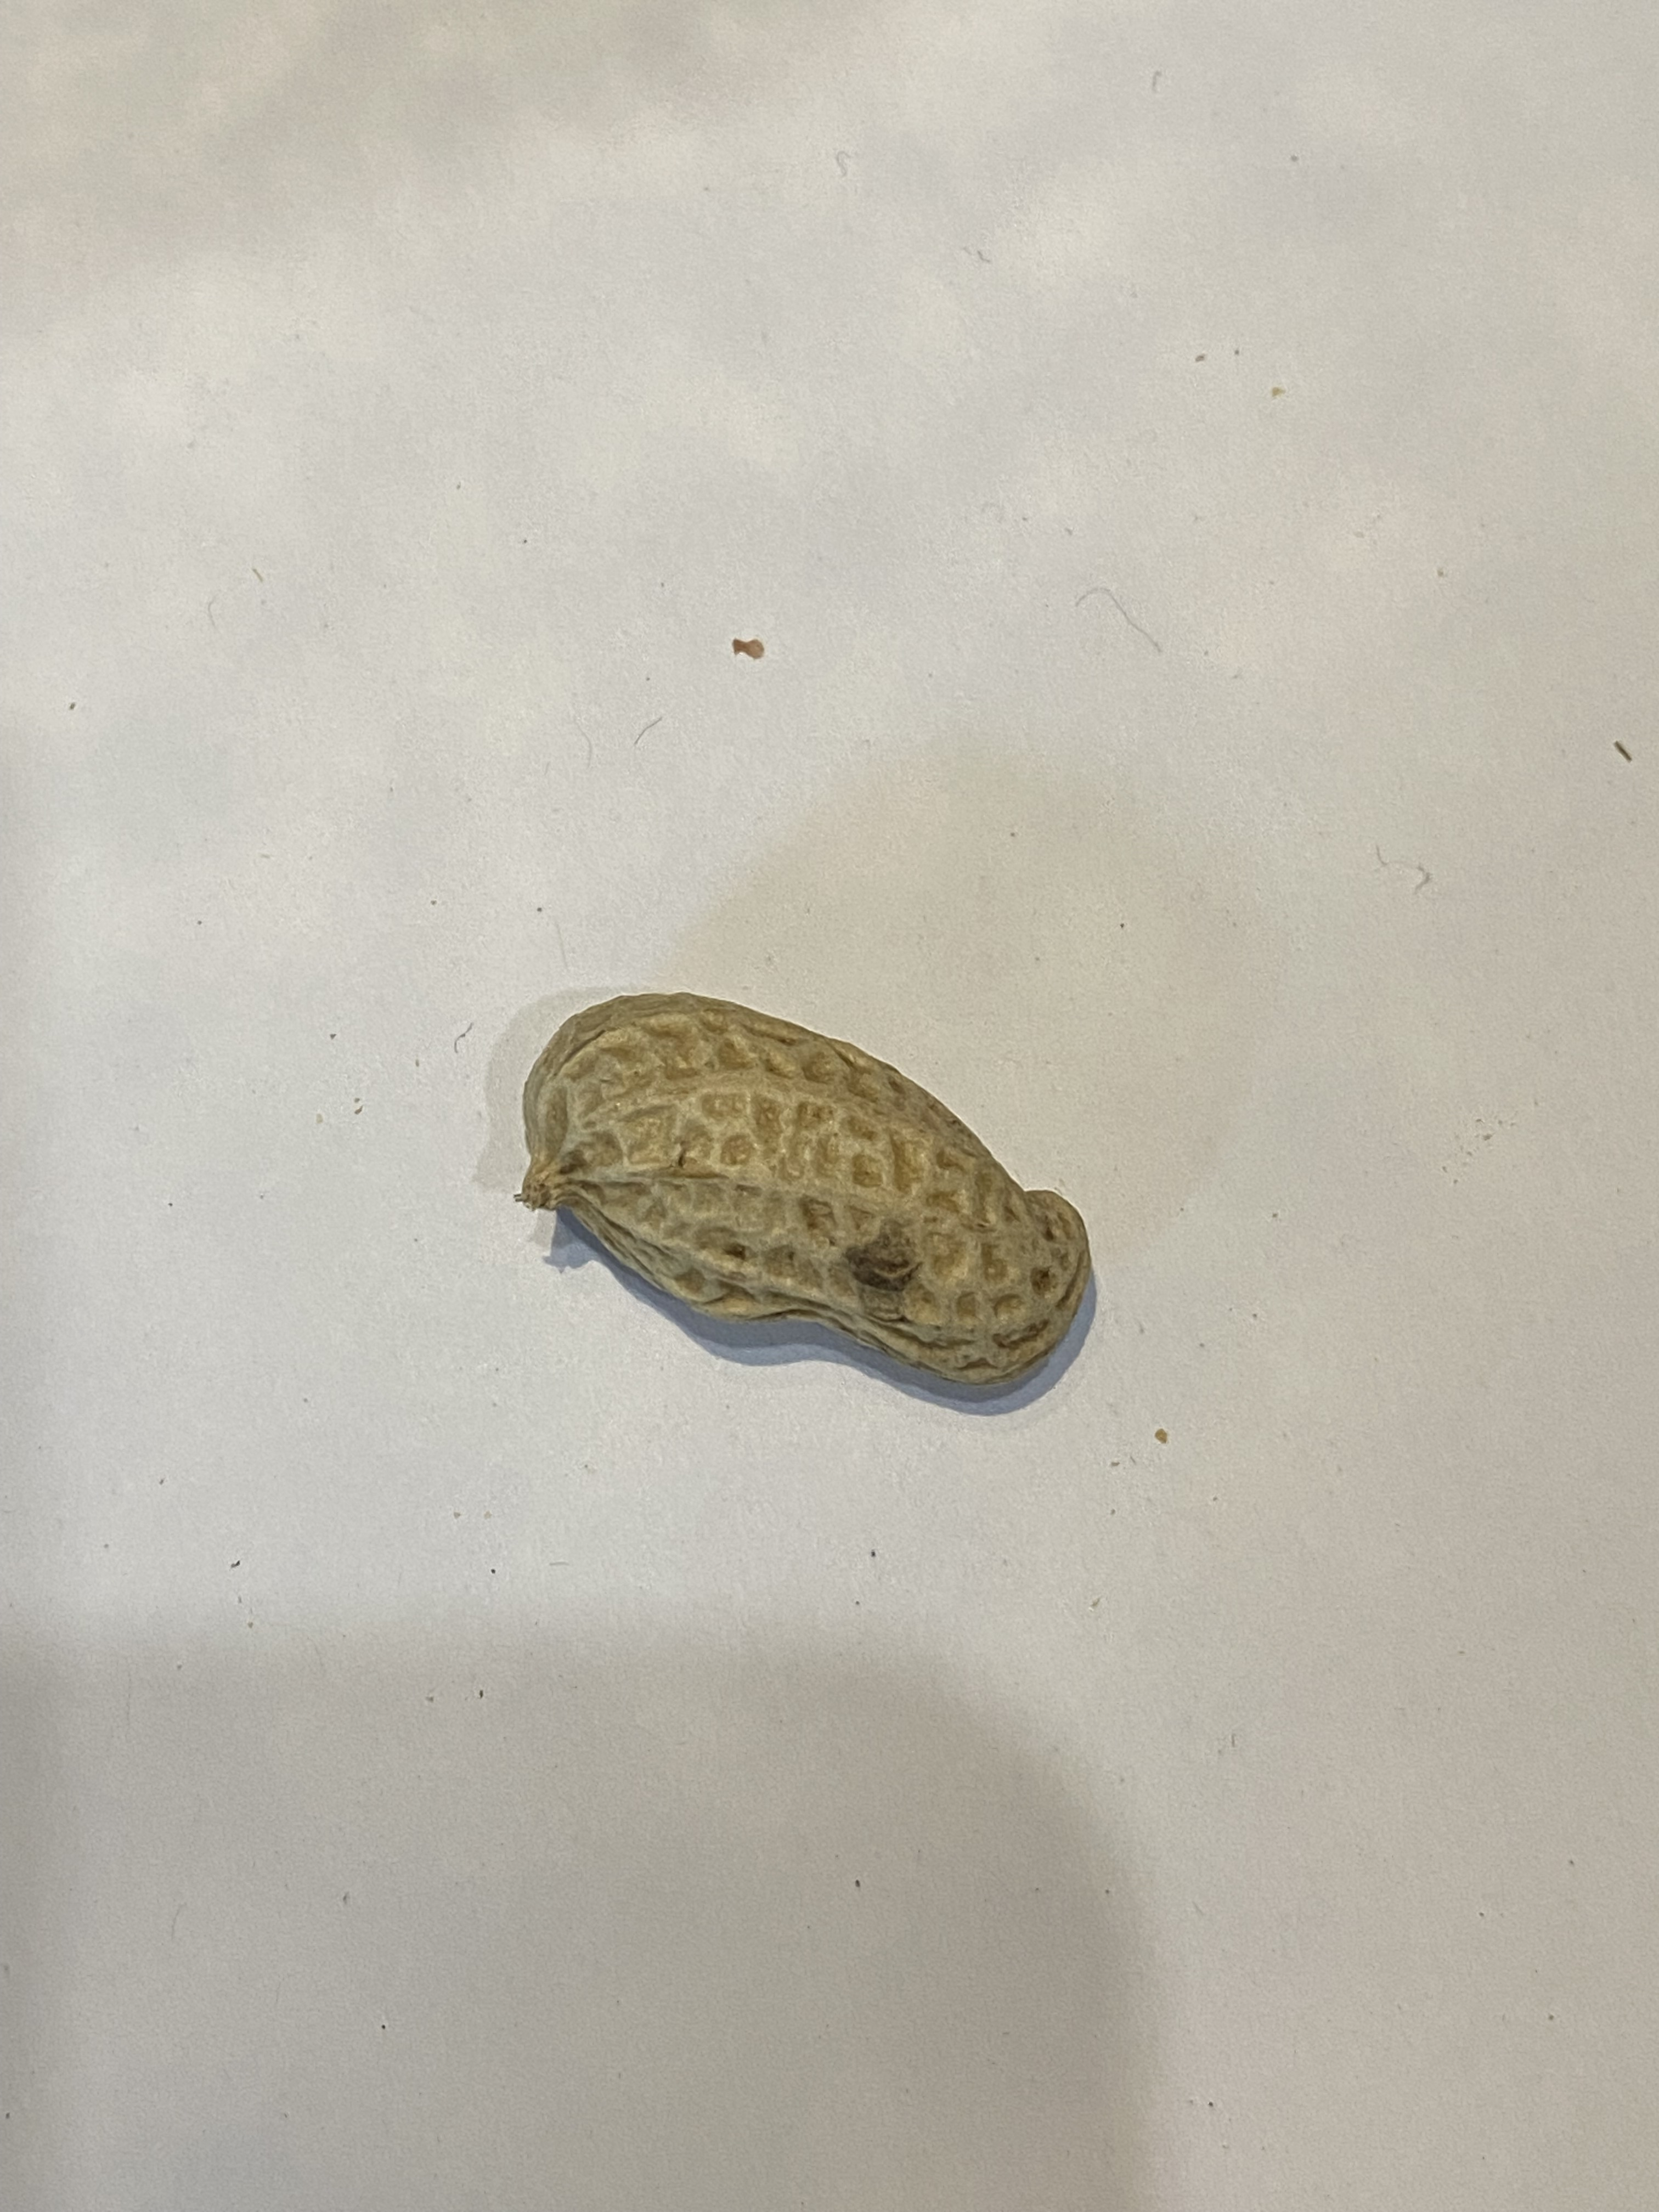kacang1: (498, 982, 1115, 1378)
